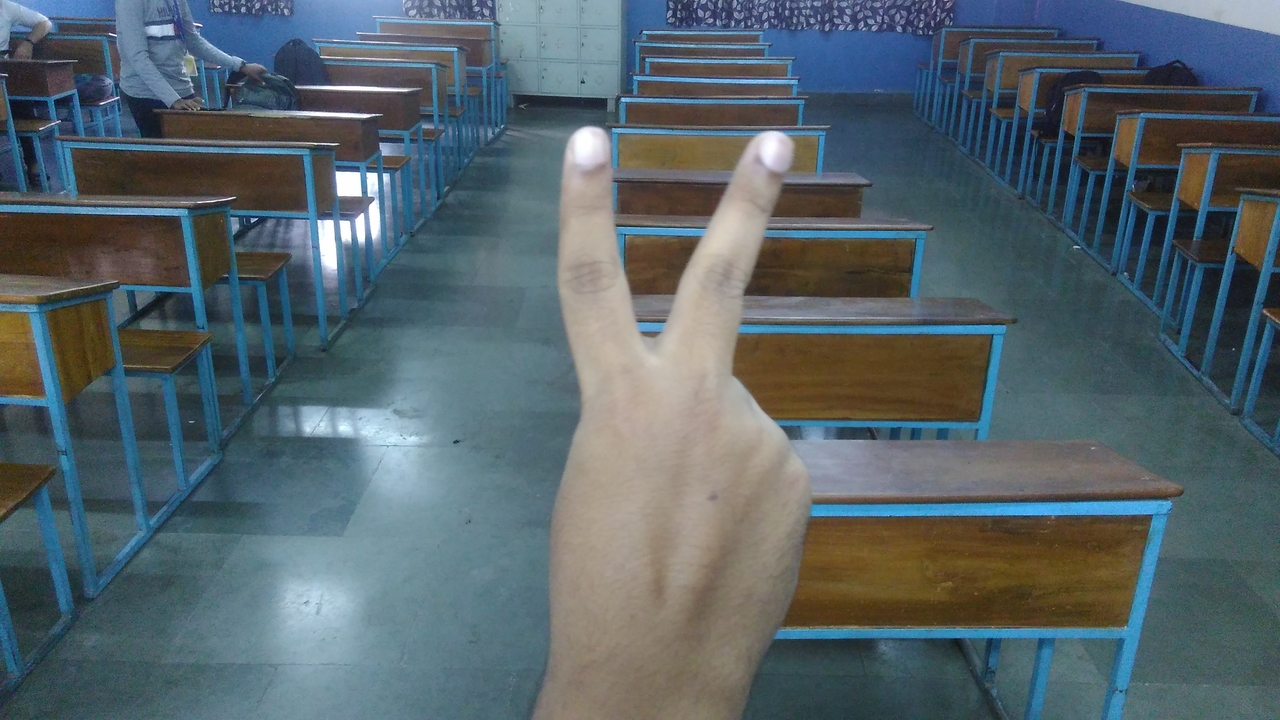fingertip: (736, 124, 802, 188), (554, 114, 616, 178)
